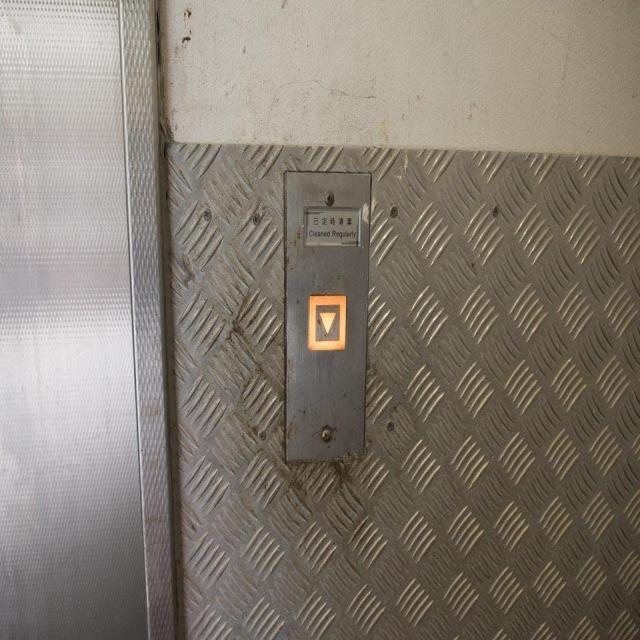down: (307, 289, 345, 350)
